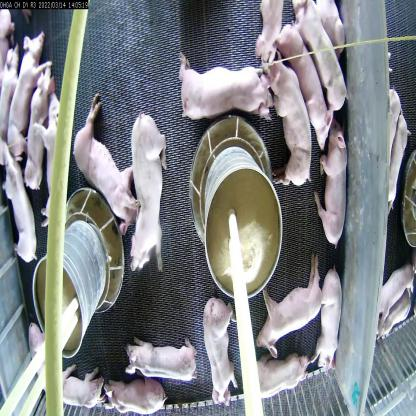Pig: (172, 46, 281, 127), (119, 113, 170, 266), (255, 55, 309, 195), (278, 18, 335, 146), (73, 93, 130, 210), (292, 0, 348, 115), (250, 271, 328, 347), (7, 30, 43, 172), (193, 298, 240, 404), (35, 90, 71, 218), (25, 67, 59, 196), (242, 350, 309, 400), (116, 327, 193, 370), (316, 116, 340, 252), (60, 348, 107, 415), (319, 275, 348, 376), (107, 386, 175, 416)
